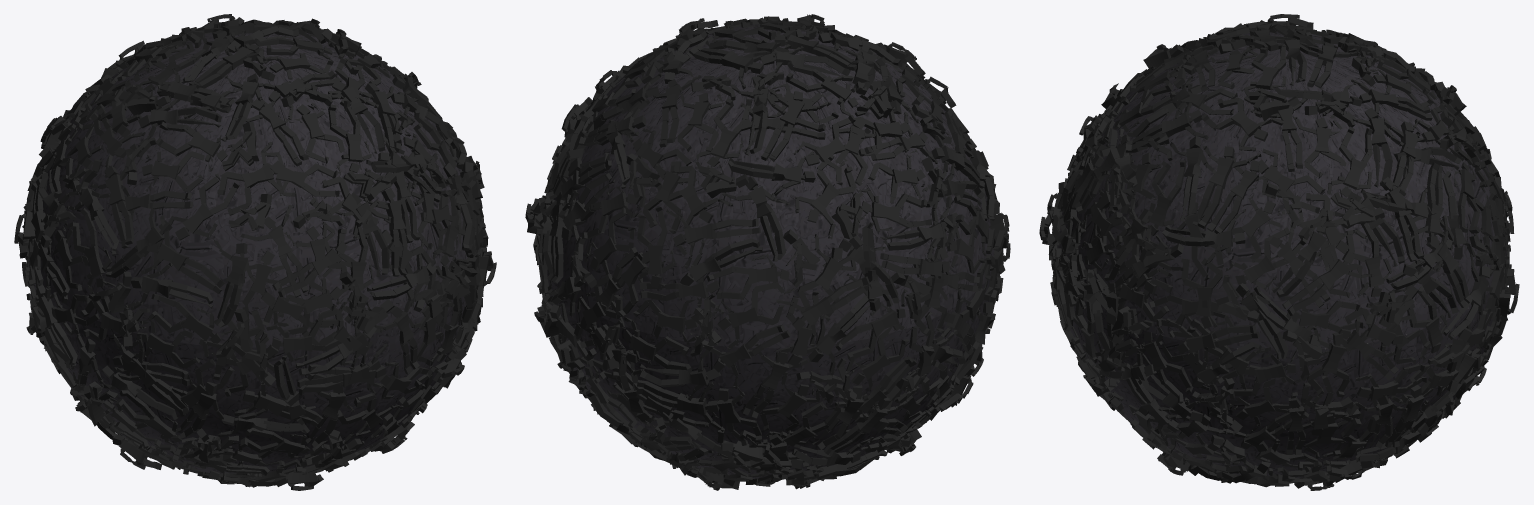
The model's file is legion.glb.
3 views of the same model, side by side, from view 1: azimuth 30°, elevation 25°; view 2: azimuth 150°, elevation 25°; view 3: azimuth 270°, elevation 25° (orthographic).
Visible parts, largest first — view 1: 球.003; view 2: 球.003; view 3: 球.003.
Part boxes in pixels (bbox=[...]): 球.003: bbox=[14, 14, 496, 490]; 球.003: bbox=[525, 14, 1010, 490]; 球.003: bbox=[1039, 14, 1519, 490].
Bounding box in the file's own units: 11.87 × 11.81 × 12.01.
Materials: 4 (1 with a texture image).
